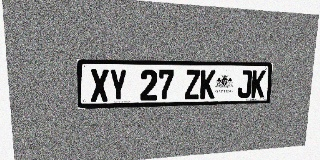2: (141, 69, 157, 101)
7: (158, 69, 174, 100)
J: (237, 70, 252, 98)
K: (200, 70, 216, 99), (251, 70, 266, 98)
X: (90, 69, 109, 102)
Y: (109, 69, 127, 101)
Z: (184, 70, 200, 99)
